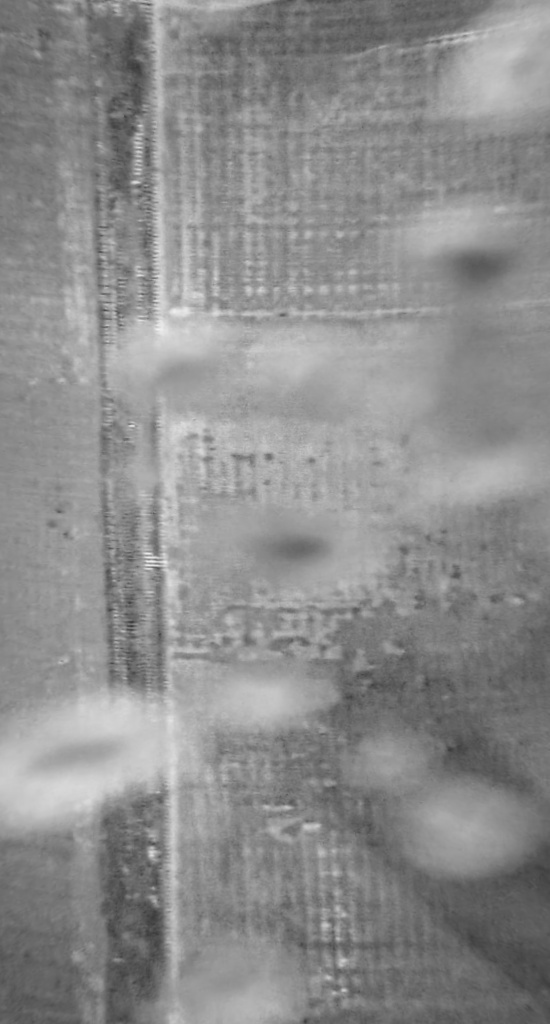splice: (83, 1, 186, 1024)
